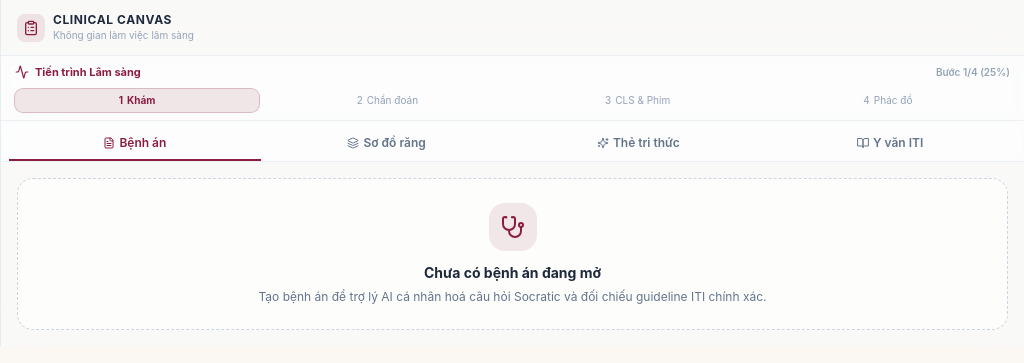
Test: ClinicalStudioCanvas › renders clinical mastery stepper and allows switching stages
Expected: the text "Tiến trình Lâm sàng" is shown, [35,64,141,80]
Expected: the text "Bước 1/4 (25%)" is shown, [936,65,1010,80]
Step 1. Click the button titled "Chẩn đoán PB" → (387, 100), box [265,88,510,112]
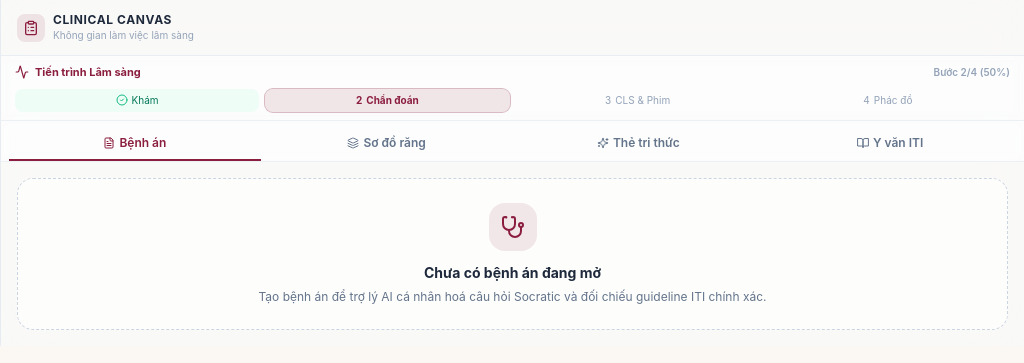
Result: the text "Bước 2/4 (50%)" is shown at [934,65,1010,80]
